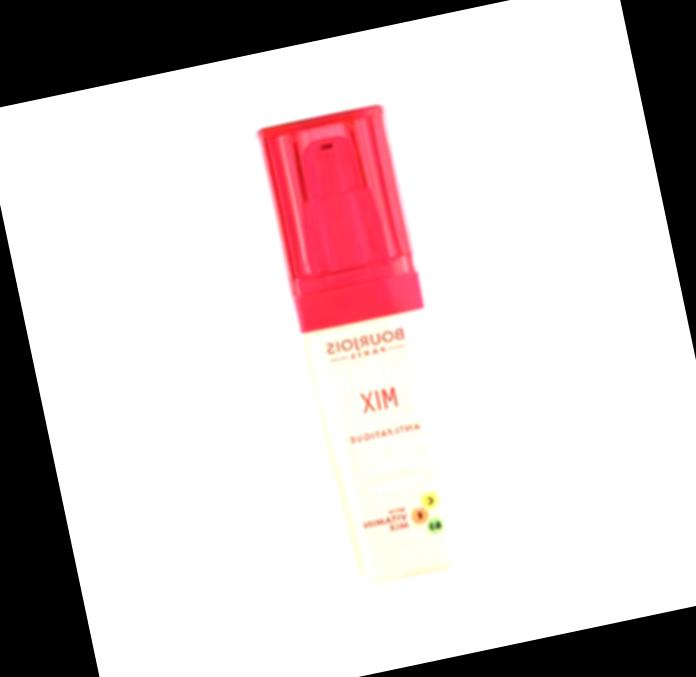cosmetic: (249, 102, 492, 622)
